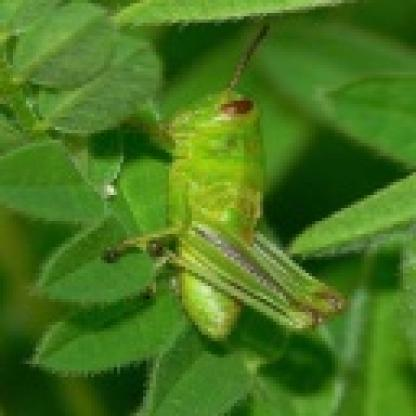grasshopper: (111, 49, 350, 342)
